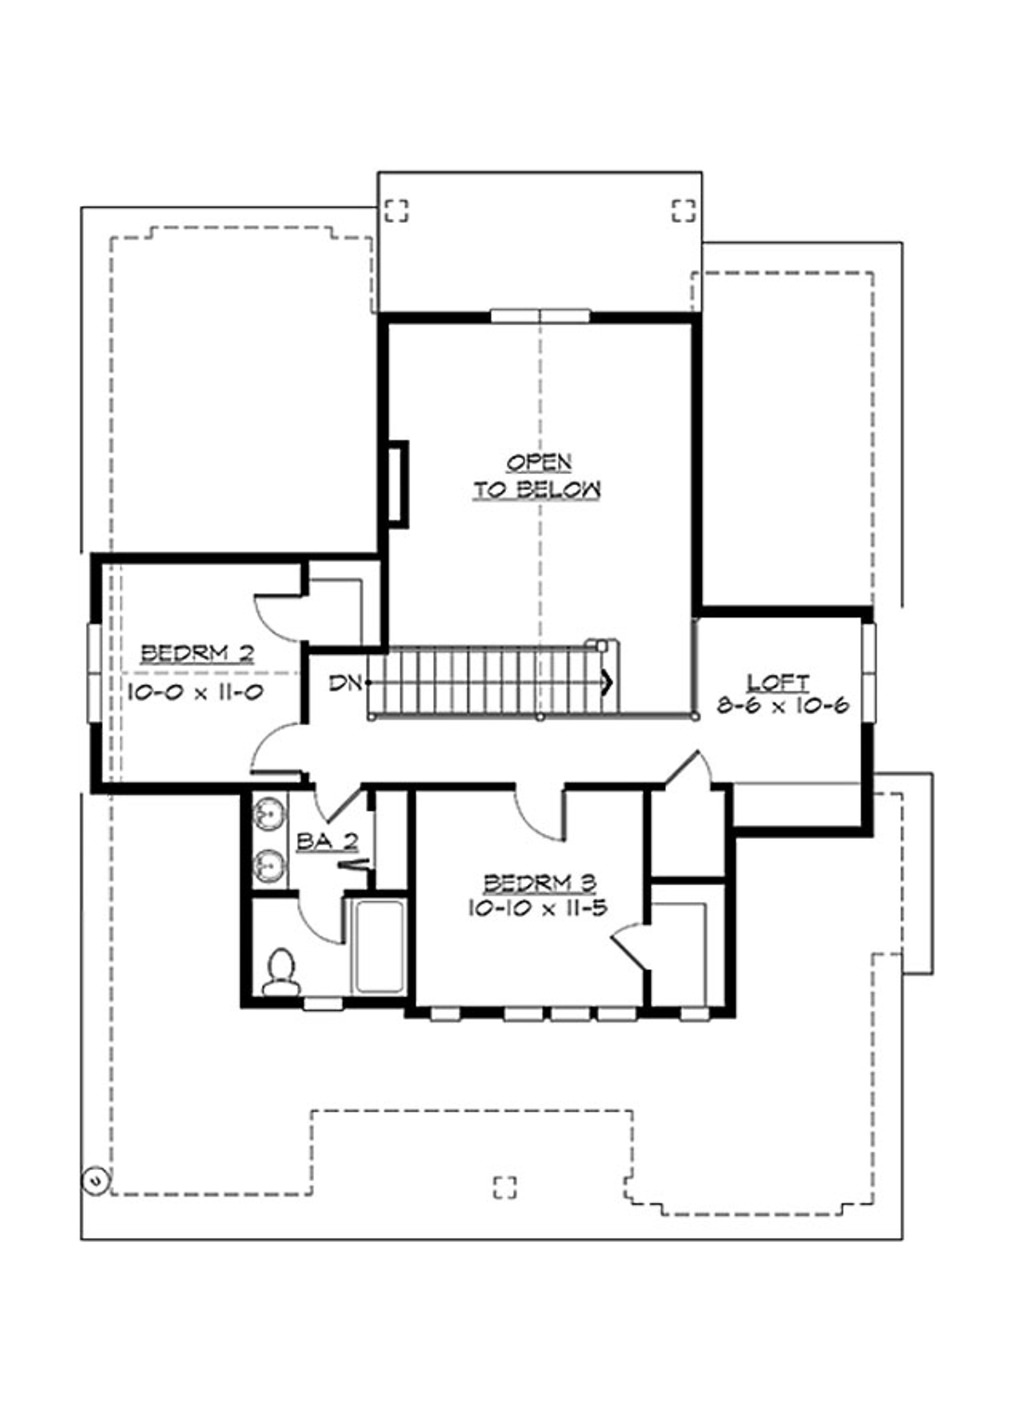door: (248, 715, 318, 781), (304, 775, 375, 828), (250, 591, 310, 648), (518, 788, 566, 841), (301, 888, 341, 947), (675, 748, 724, 790), (613, 921, 650, 966)
large_sink: (257, 938, 310, 999)
stairs: (364, 635, 626, 727)
tub: (346, 886, 417, 1008)
twin_sink: (255, 781, 297, 890)
window: (860, 605, 878, 718), (485, 306, 597, 324), (86, 621, 104, 721)
